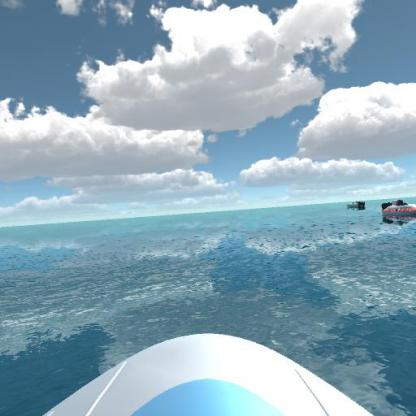usv0: (346, 196, 368, 213)
usv3: (376, 196, 415, 223)
